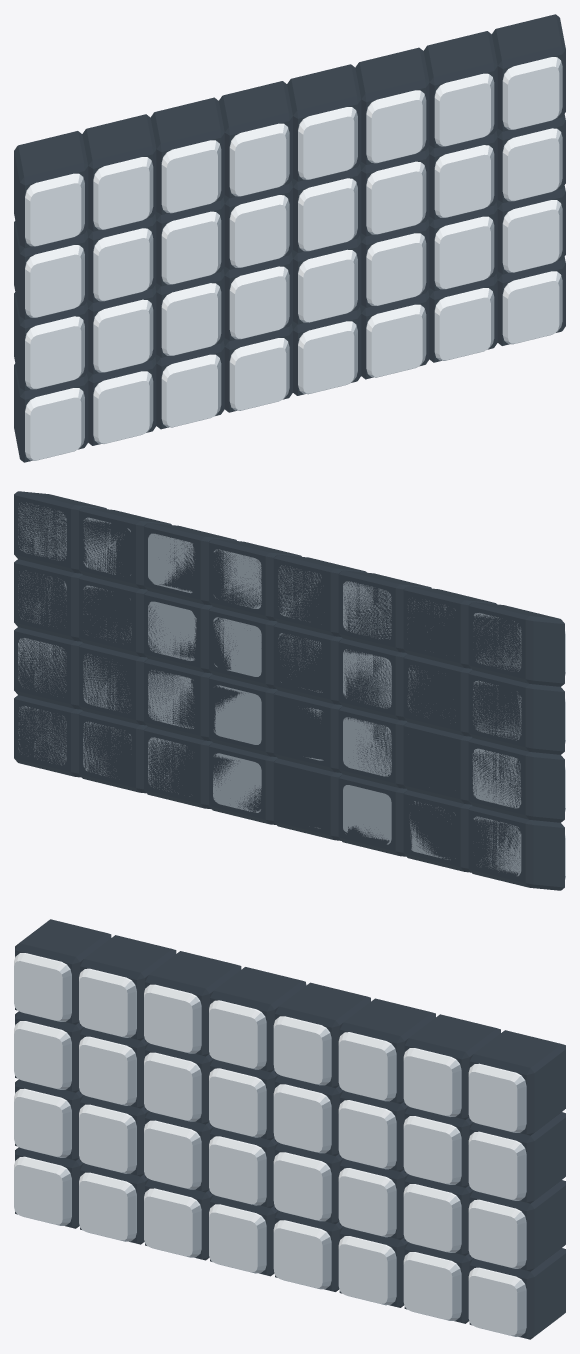
Rendered from Terrain_Block8x4.gltf.
The picture shows the model from 3 angles, top to bottom: view 1: azimuth 30°, elevation 25°; view 2: azimuth 150°, elevation 25°; view 3: azimuth 330°, elevation 25°; orthographic projection. The views are drawn at different scales.
Parts seen in each view (by area): view 1: Terrain_Block8x4_baked; view 2: Terrain_Block8x4_baked; view 3: Terrain_Block8x4_baked.
Part boxes in pixels (x1,y1,x2,y2): Terrain_Block8x4_baked: [14, 14, 565, 462]; Terrain_Block8x4_baked: [14, 491, 565, 890]; Terrain_Block8x4_baked: [14, 919, 565, 1339].
Size of the model in its own units: 8.2 by 4.2 by 0.7.
